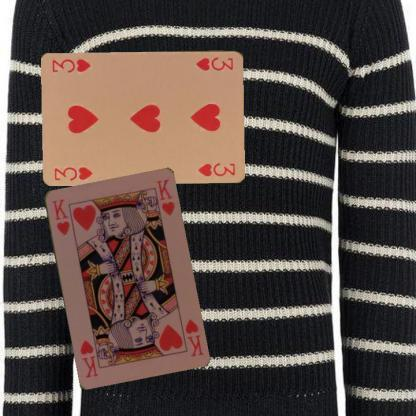3h: (52, 164, 94, 182), (193, 54, 234, 72)
Kh: (182, 316, 205, 358), (49, 196, 71, 237)
